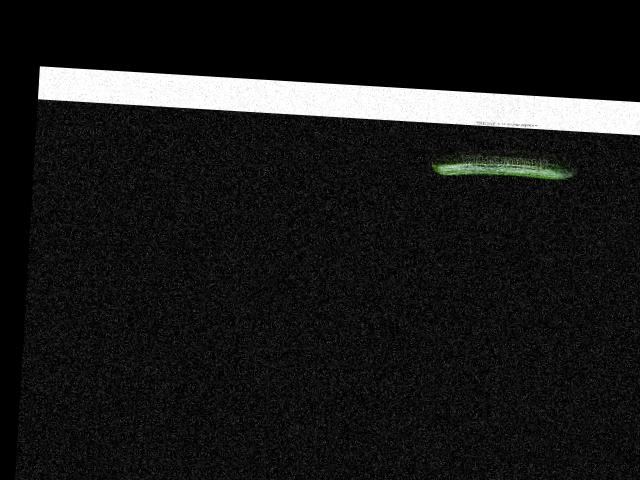cucumber: (429, 151, 577, 182)
